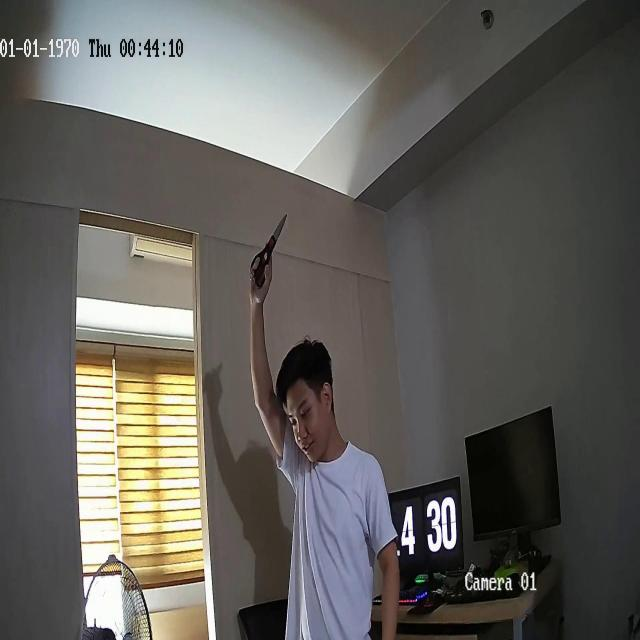scissor: (250, 215, 287, 288)
